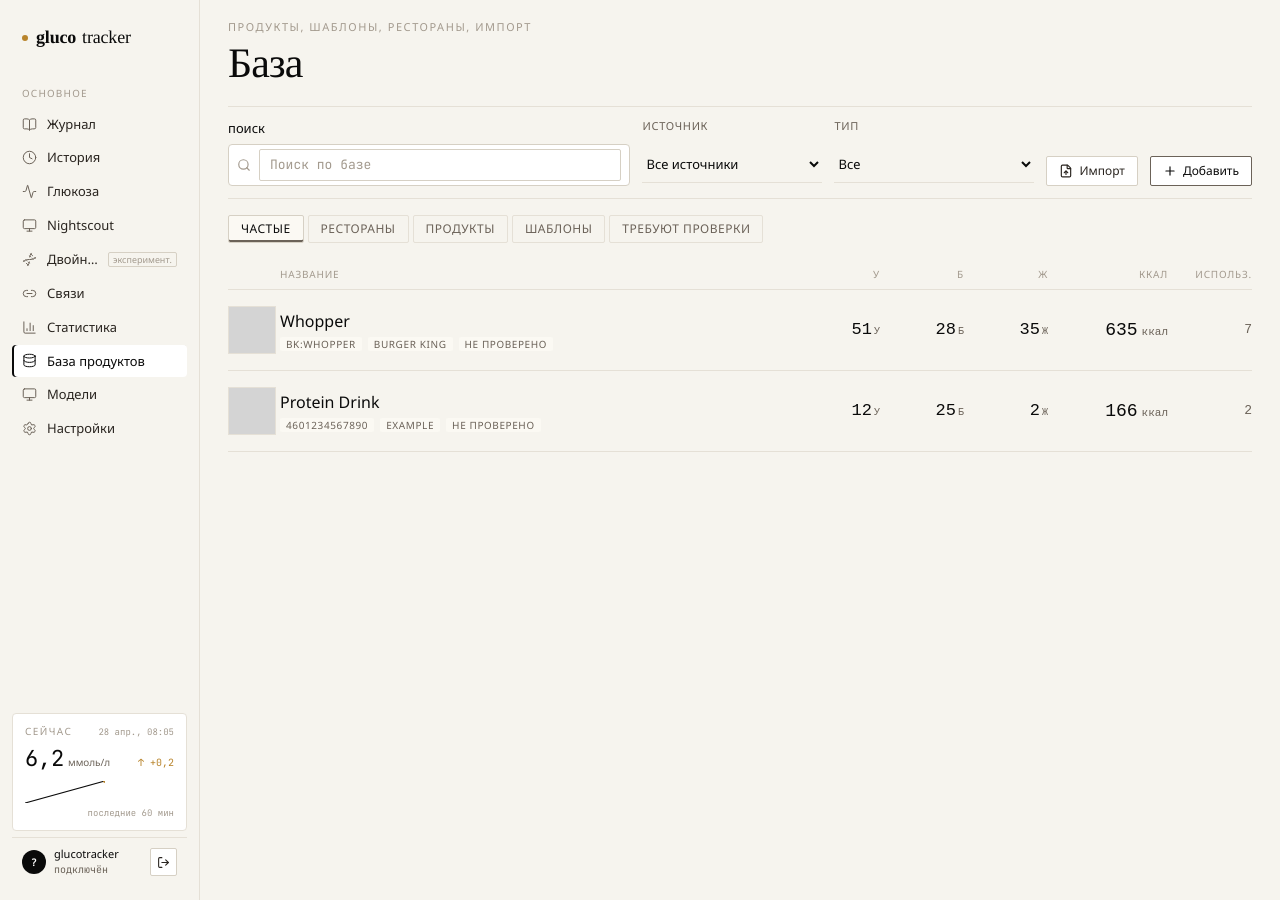
Test case: database search finds Whopper by Russian alias
Type "воппер" into the field labelled "Поиск по базе".
click(440, 165); type("воппер")  # box [259,149,622,181]
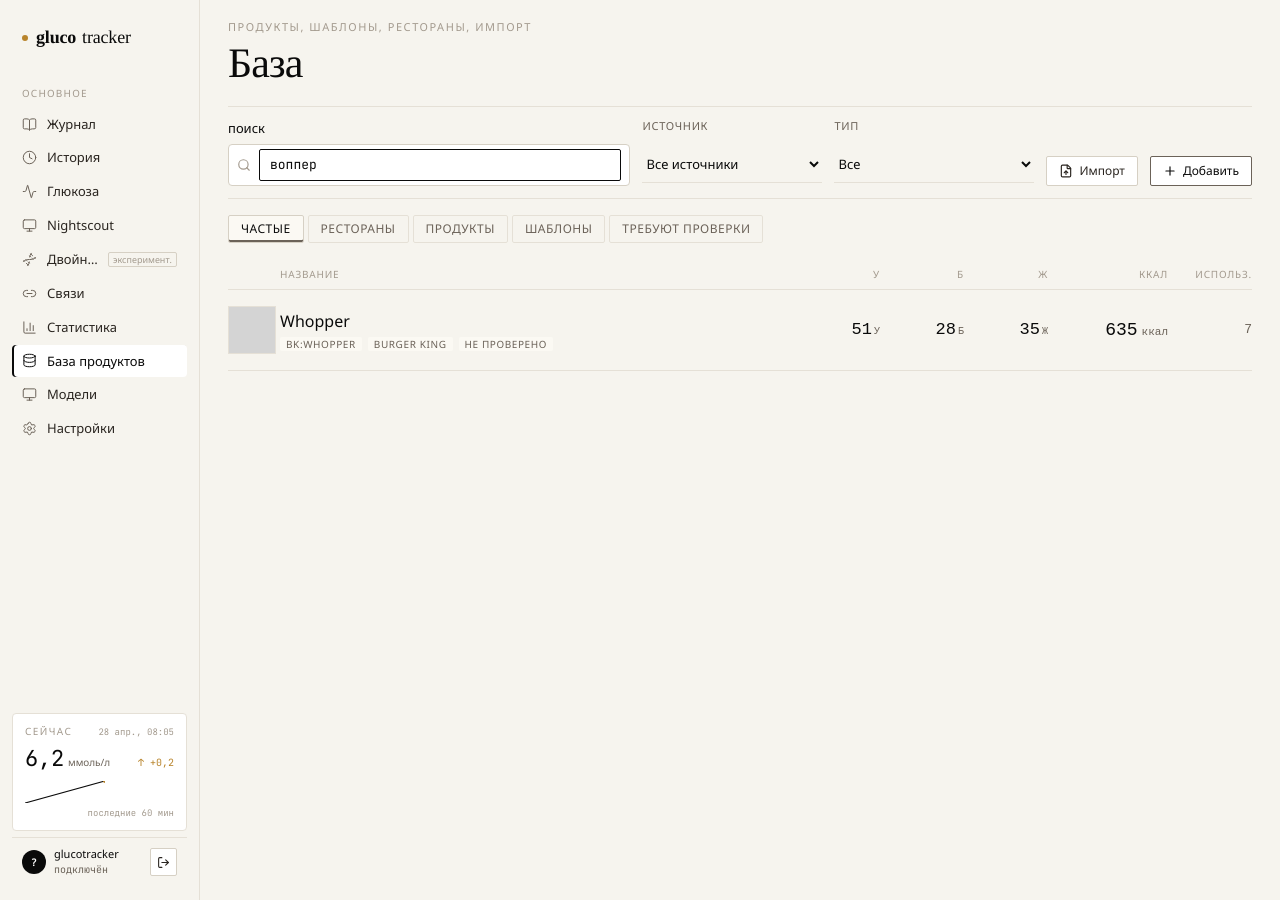
Expected: the text "Whopper" is shown, [280,310,350,332]
Result: the button "Protein Drink" is gone
